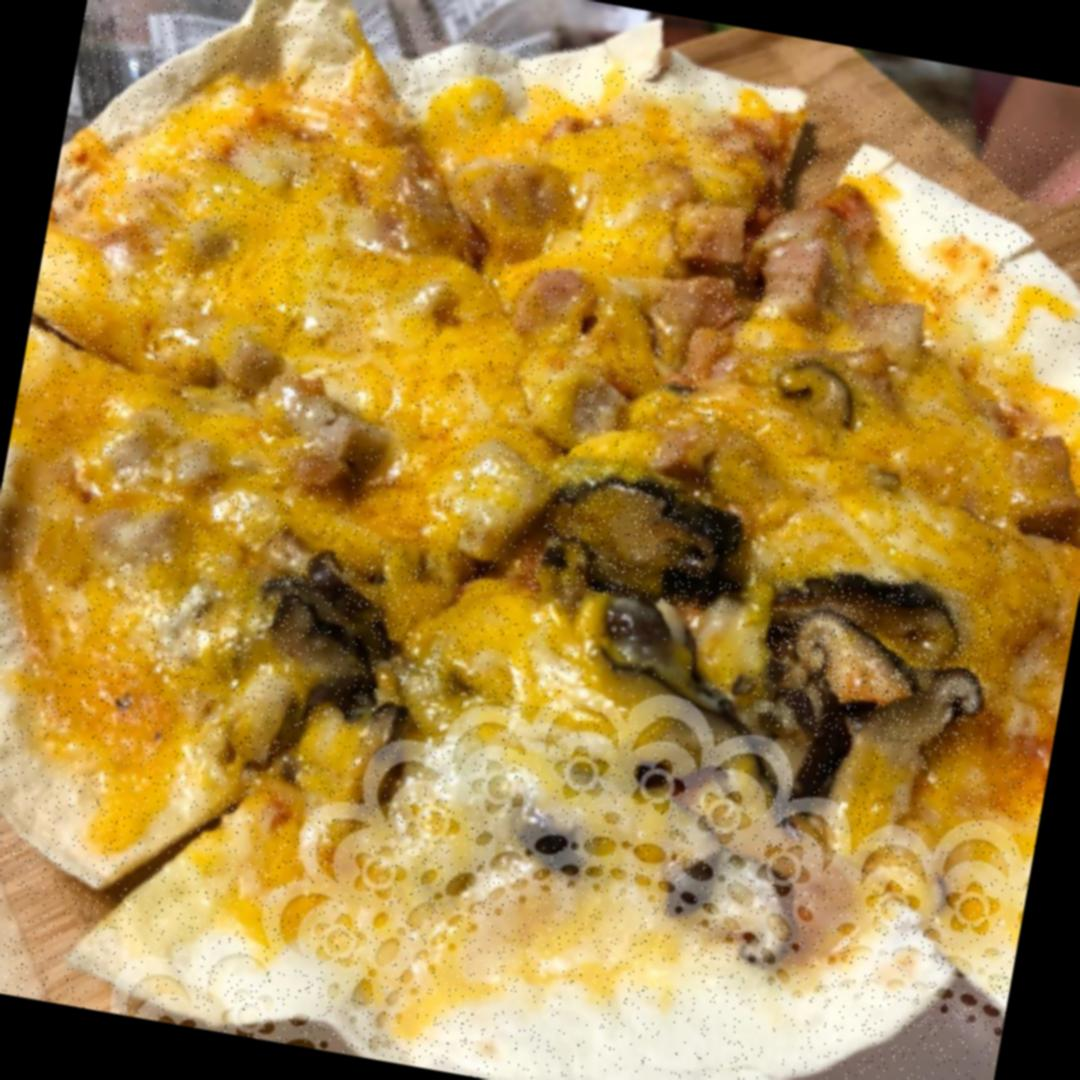Cheese: (247, 232, 396, 352)
Mushroom: (752, 557, 1002, 756), (532, 462, 754, 616), (566, 591, 756, 735), (268, 546, 422, 678)
Pizza: (0, 0, 1080, 1080)
